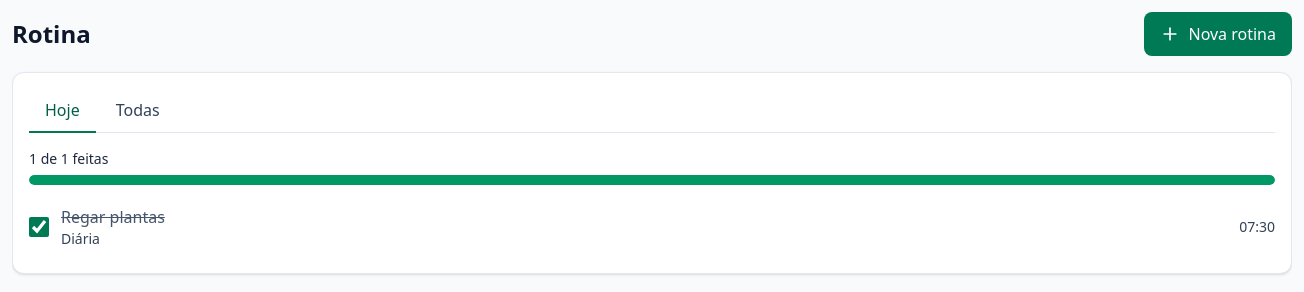
Test: RoutinesPage › undoes today's mark by deleting the date of the latest log (the server's today)
Check: the text "1 de 1 feitas" is shown, box [29,149,108,168]
Click the checkbox named "Feita hoje: Regar plantas" at coordinates (39, 227), box [29,217,49,237]
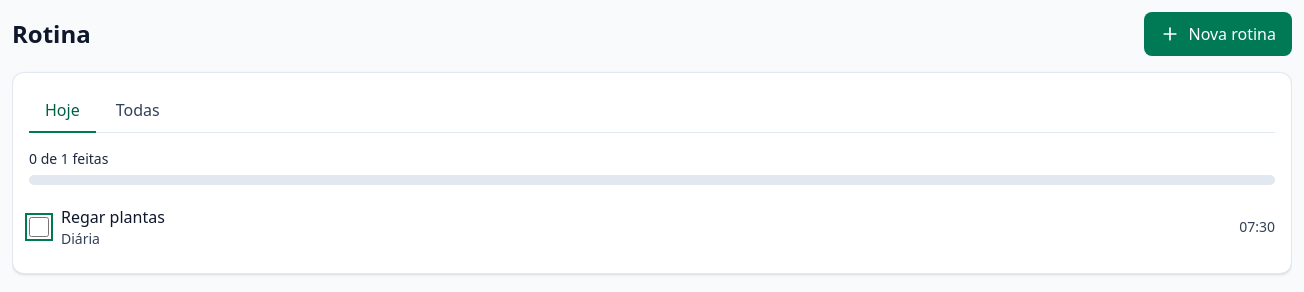
Check: the checkbox named "Feita hoje: Regar plantas" is not checked, box [29,217,49,237]
Check: the text "0 de 1 feitas" is shown, box [29,149,108,168]
